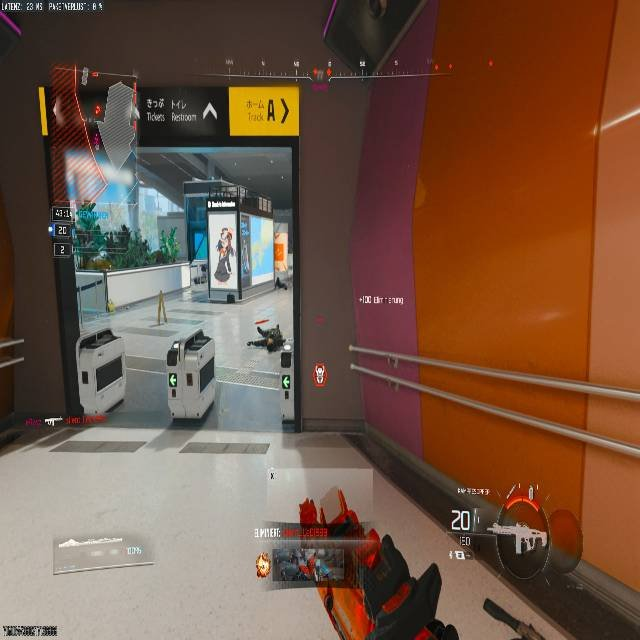head: (223, 228, 232, 237), (93, 225, 100, 233)
player: (215, 227, 233, 277), (90, 225, 108, 262)
